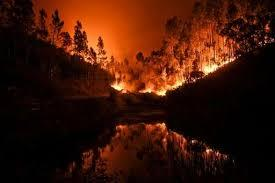fire: (70, 32, 233, 95)
